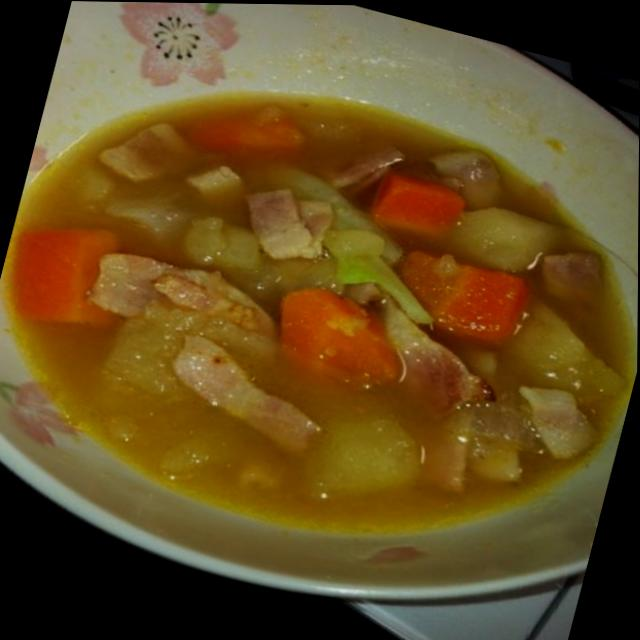汤锅炖物: (0, 0, 640, 612)
